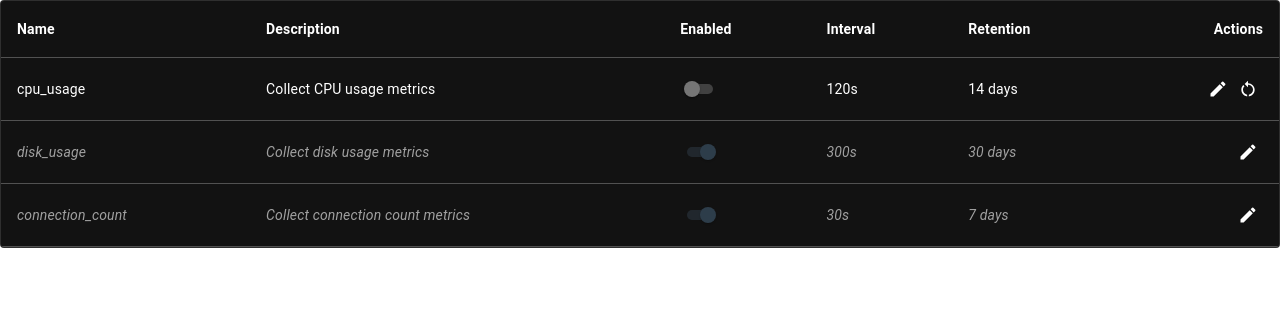
Scenario: ProbeOverridesPanel › shows error banner when reset DELETE fails
Expected: the text "cpu_usage" is shown, [1, 58, 250, 120]
Click the button named "reset override to default": (1248, 89) [1233, 74, 1263, 104]
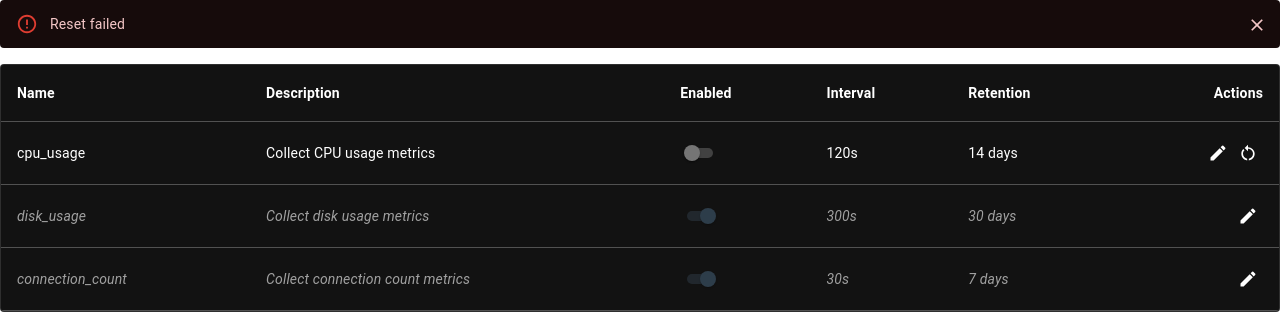
Now the text "Reset failed" is shown, box [50, 16, 125, 32]
